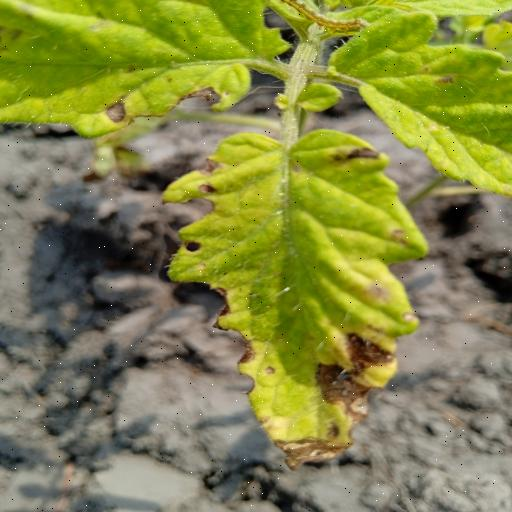Tomato_Brown_Spots: (155, 122, 435, 473)
